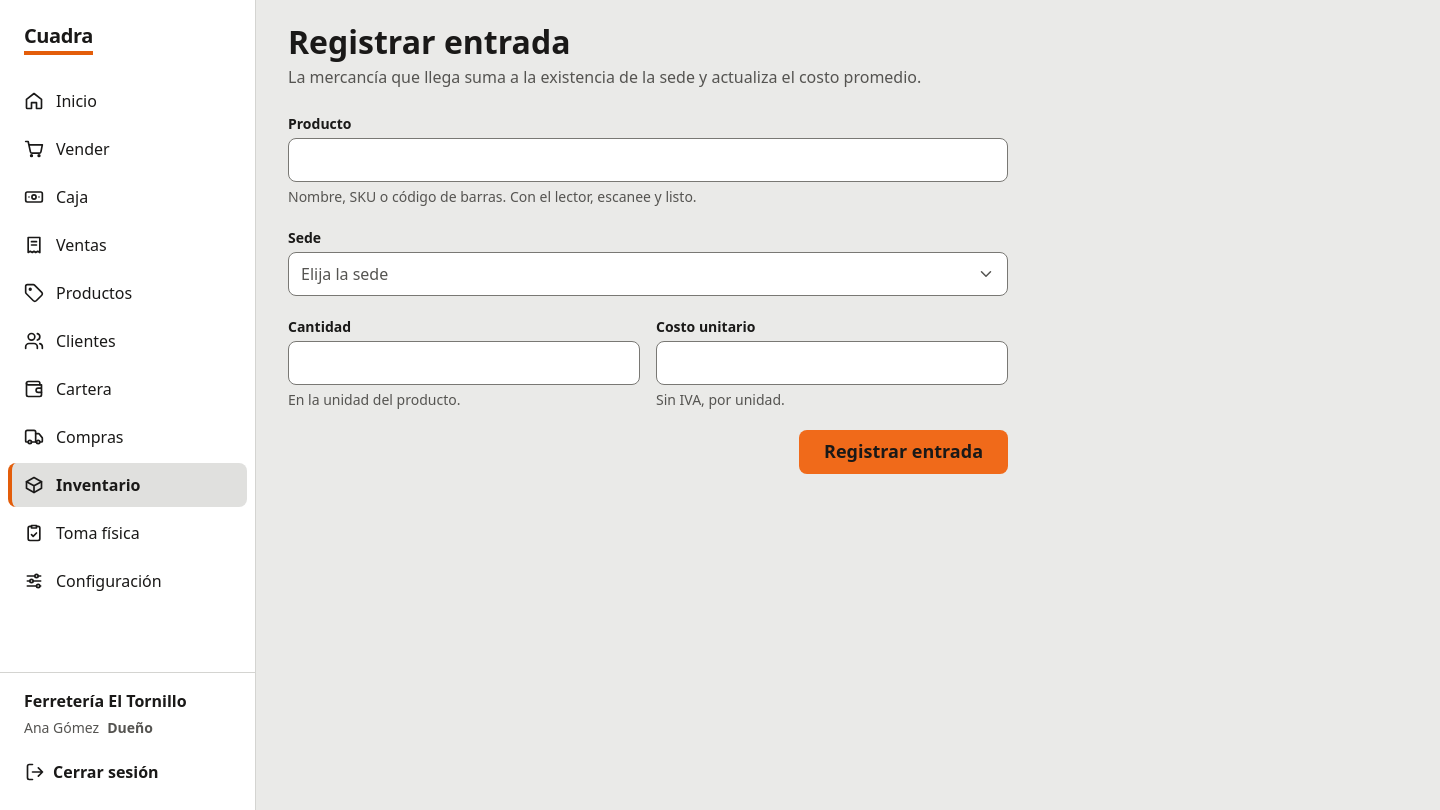
it: ReceiptPage › en unidad alternativa › sin el módulo no aparece el selector de unidad
Type "tubo" into the search field labelled "Producto". click: (648, 160)
box: [288,138,1008,182]
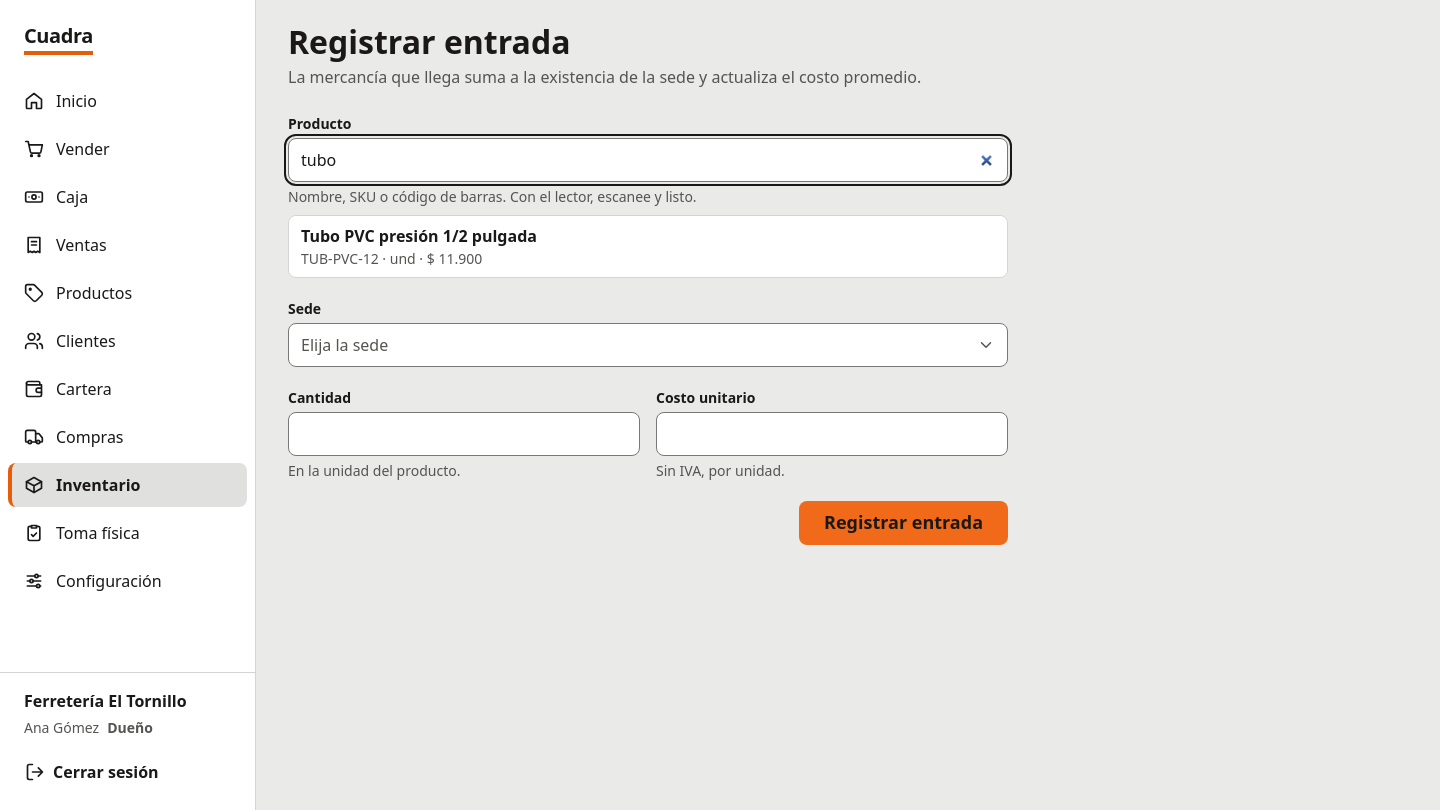
Click the button "Tubo PVC presión 1/2 pulgada TUB-PVC-12 · und · $ 11.900". click: (419, 236)
box: [289,216,1007,277]
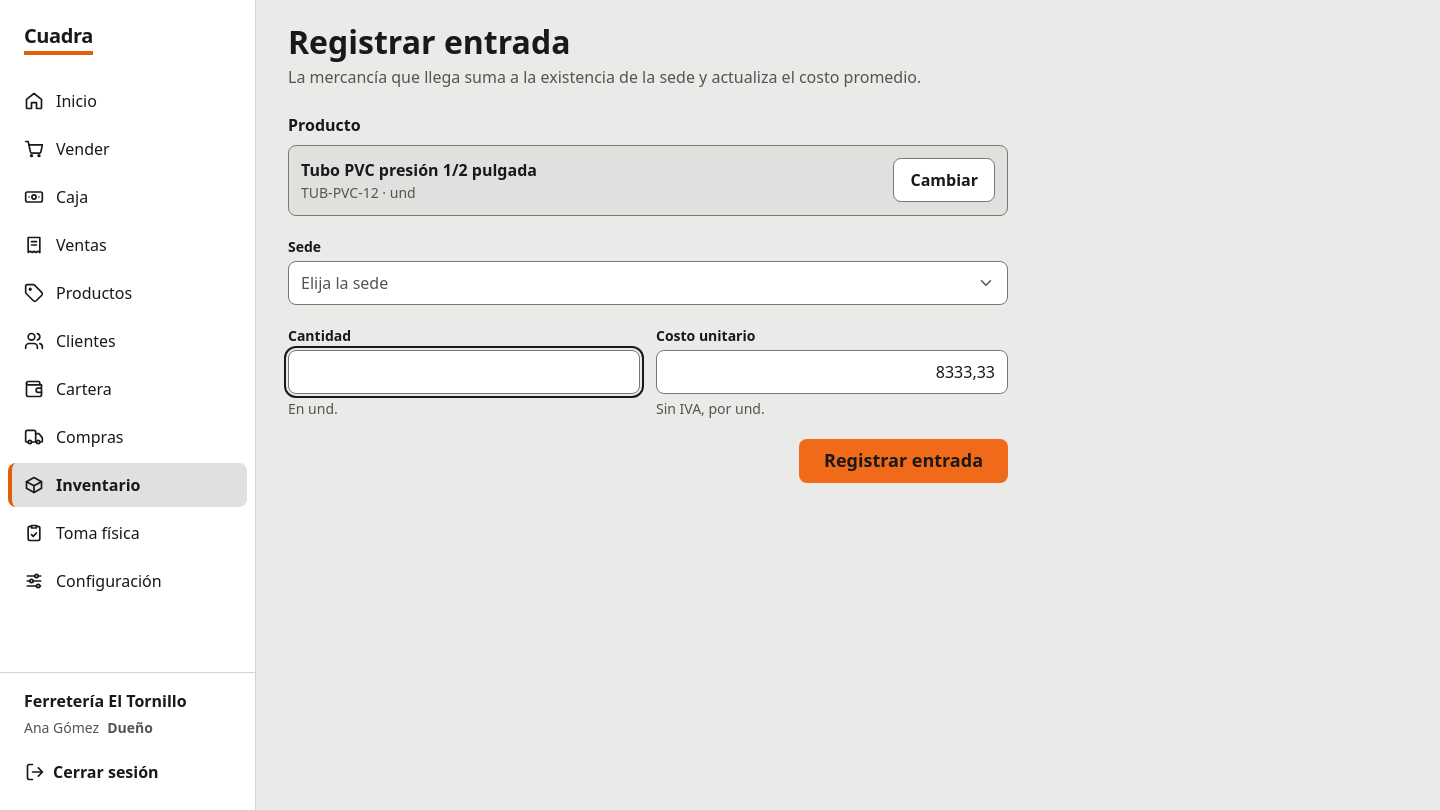
Expected: the text "unidad" is gone
